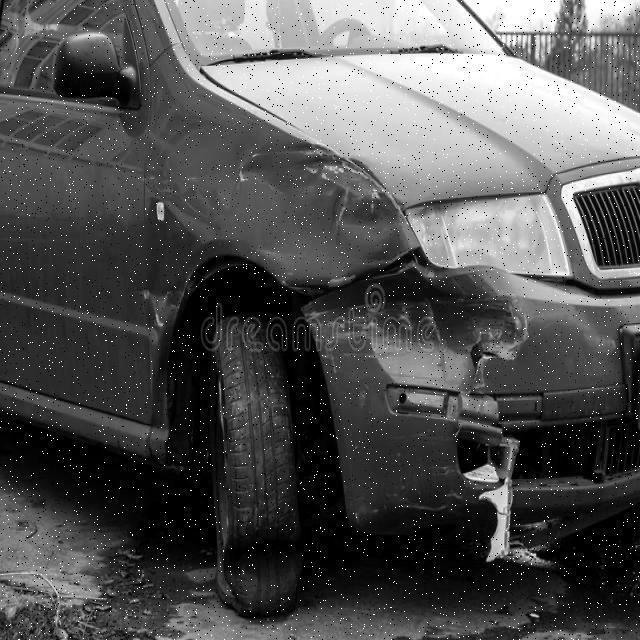fender-dent: (134, 106, 420, 300)
front-bumper-dent: (311, 258, 640, 553)
